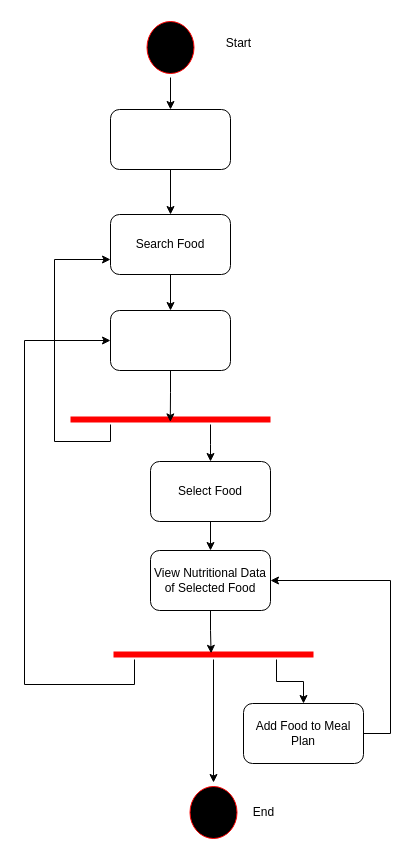
The diagram is 416 pixels wide and 860 high, and some of its shapes have lost their labels. Each missing label, with the box of its shape:
Enter Search Menu: (110, 108, 230, 170)
View List of Foods: (110, 310, 230, 370)
